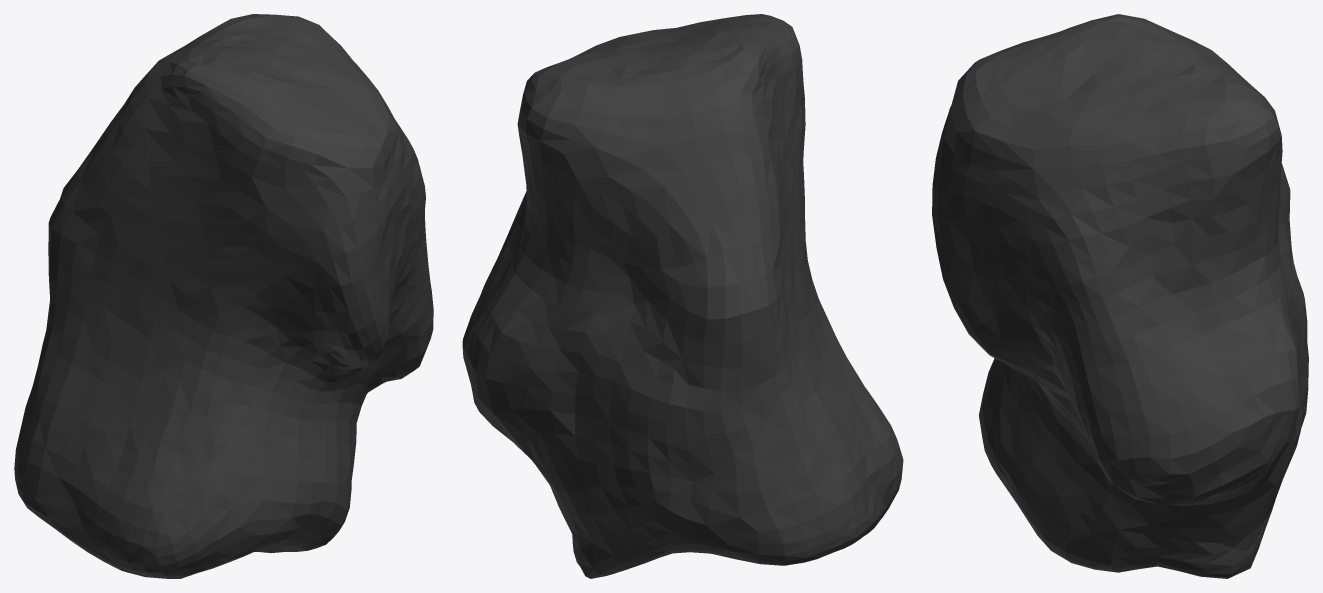
Rendered from tarsal_IV_L.glb.
The picture shows the model from 3 angles, left to right: view 1: azimuth 30°, elevation 25°; view 2: azimuth 150°, elevation 25°; view 3: azimuth 270°, elevation 25°; orthographic projection.
Visible parts, largest first — view 1: tarsal_IV_L; view 2: tarsal_IV_L; view 3: tarsal_IV_L.
Boxes of the visible parts, left/top/right/bottom form: tarsal_IV_L: left=14, top=14, right=433, bottom=578; tarsal_IV_L: left=462, top=14, right=903, bottom=578; tarsal_IV_L: left=932, top=14, right=1308, bottom=578.
Size of the model in its own units: 0.028 by 0.035 by 0.0234.
1 material, 1 textured.
